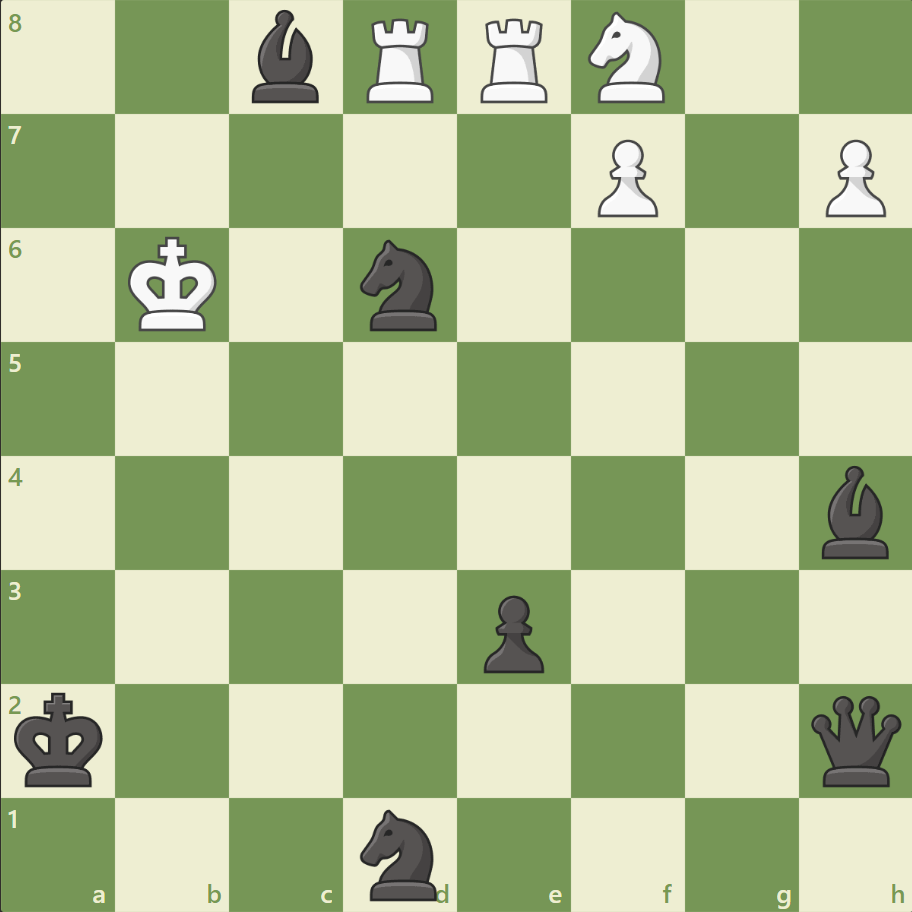K: (124, 231, 224, 339)
N: (579, 7, 676, 110)
P: (588, 132, 662, 223), (815, 132, 889, 223)
R: (473, 12, 556, 109), (360, 12, 442, 109)
b: (244, 6, 328, 109), (812, 460, 896, 563)
k: (11, 685, 111, 793)
n: (351, 234, 449, 337), (351, 802, 449, 904)
p: (474, 586, 549, 677)
q: (805, 690, 904, 789)
